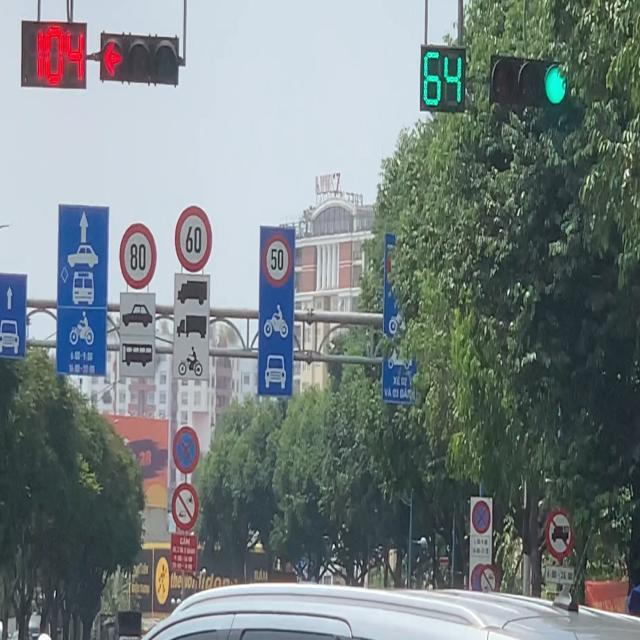Cam con lai: (545, 508, 574, 560)
Cam dung va do: (172, 426, 200, 474), (472, 500, 491, 534)
Toc do toi da: (174, 205, 213, 273), (119, 222, 157, 290), (262, 234, 292, 287)
